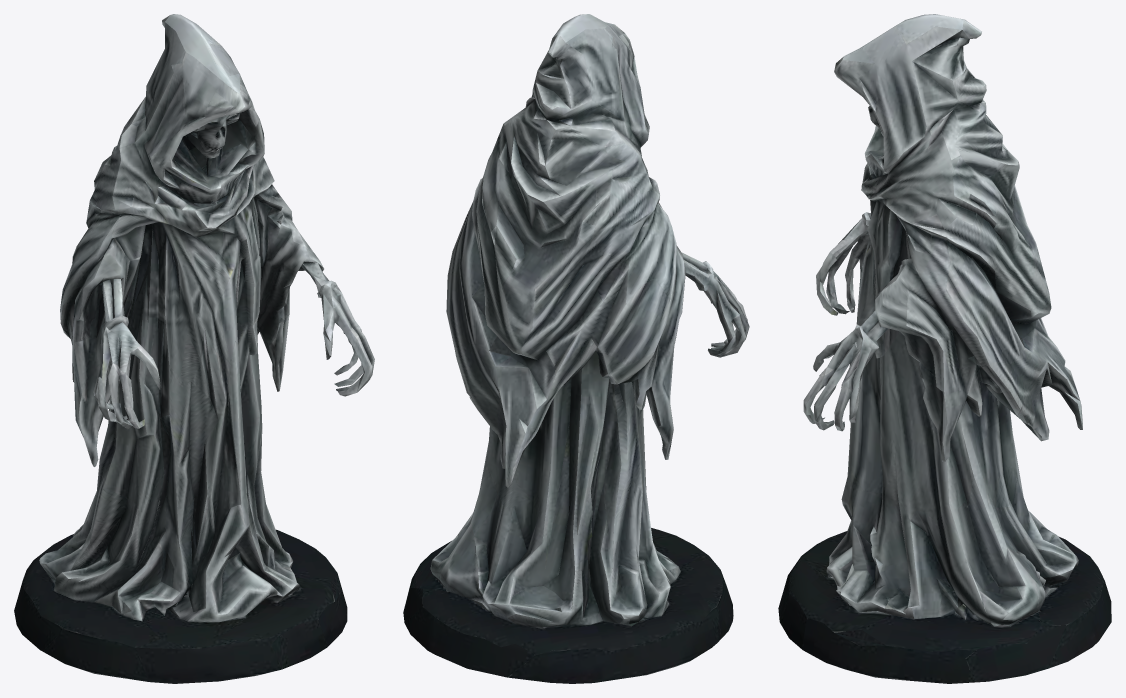
File: mob_wraith.glb
3 views of the same model, side by side, from view 1: azimuth 30°, elevation 25°; view 2: azimuth 150°, elevation 25°; view 3: azimuth 270°, elevation 25° (orthographic).
Bounding box in the file's own units: 0.96 × 1.9 × 0.9568.
1 material, 1 textured.
